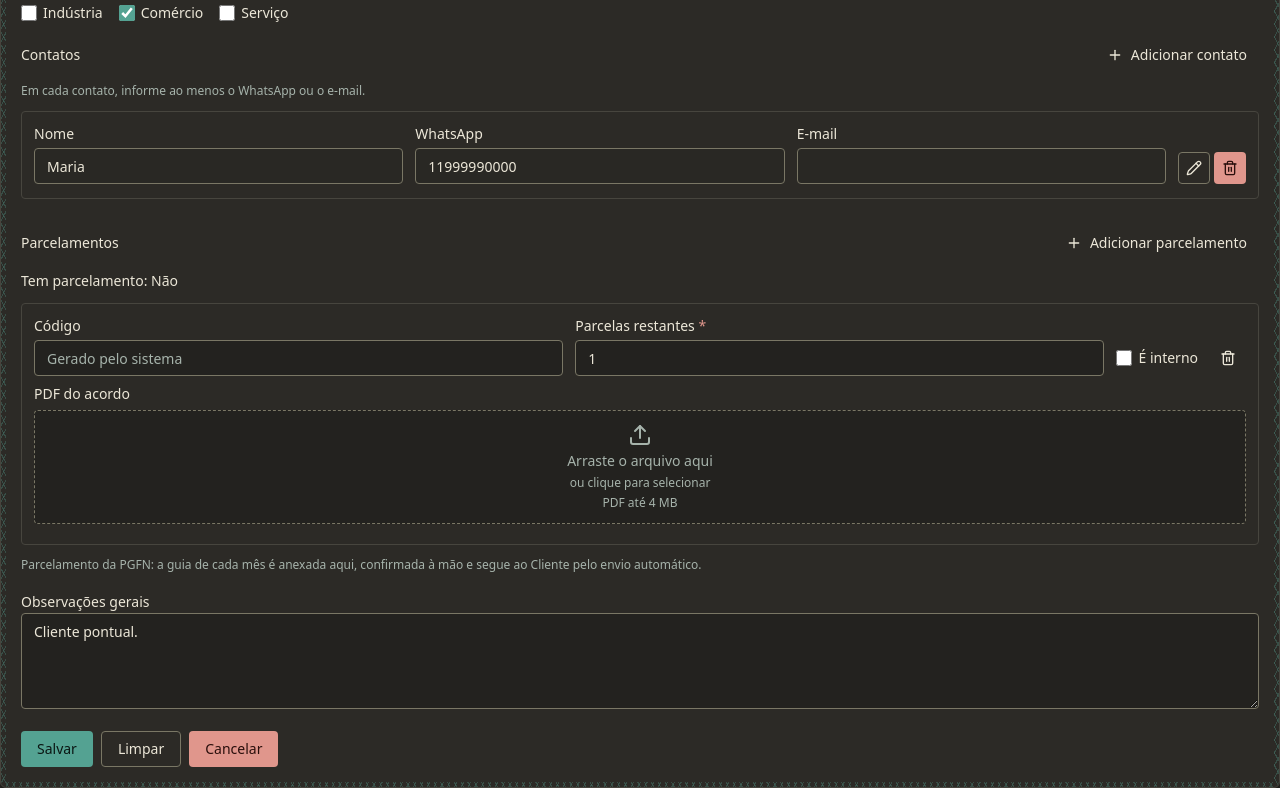
it: EditarCadastroOperacionalContainer › submete os dados editados e mostra confirmação
(page scrolled)
Replace the text in the text box labelled "Observações gerais" with "Atualizado." at (640, 661), box x1=21 y1=613 x2=1259 y2=709
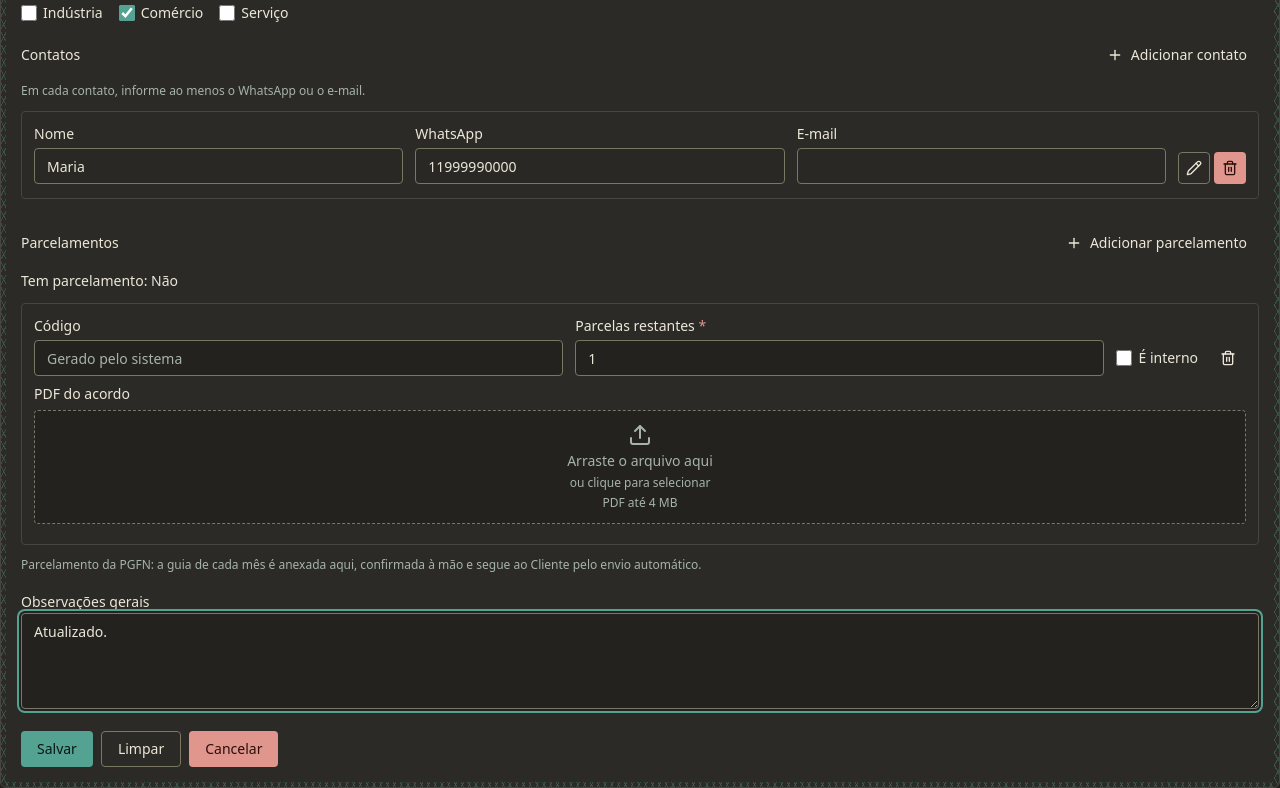
Click the button "Salvar" at (57, 749), box x1=21 y1=731 x2=93 y2=767
(page scrolled)
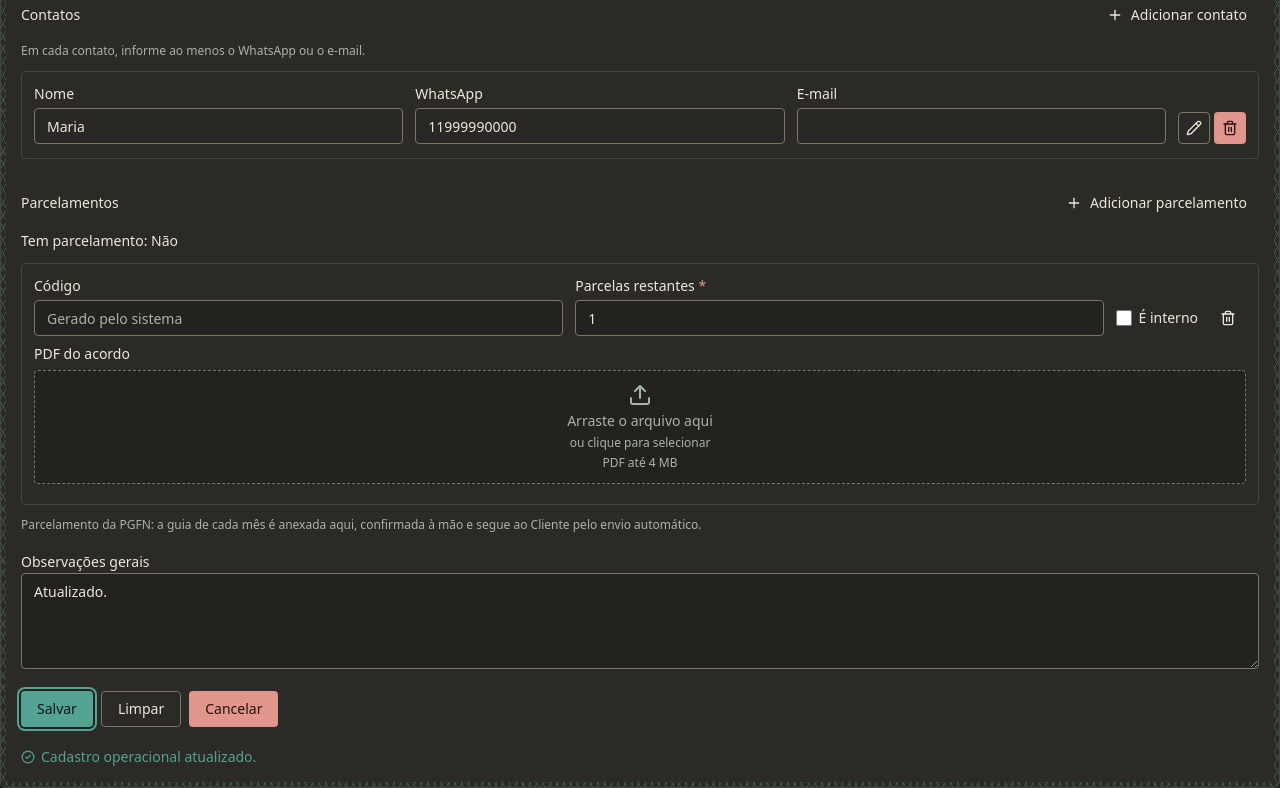
Now the text "Cadastro operacional atualizado." is shown, box x1=41 y1=747 x2=256 y2=767
